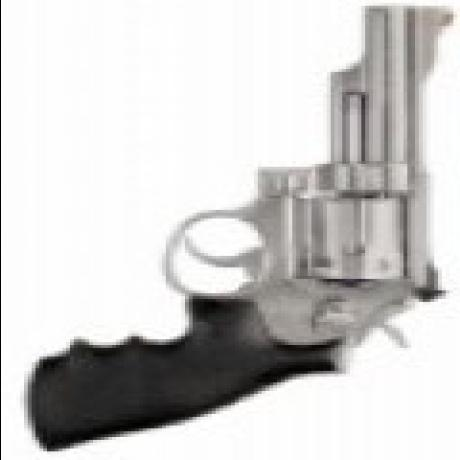weapon: (26, 4, 449, 450)
